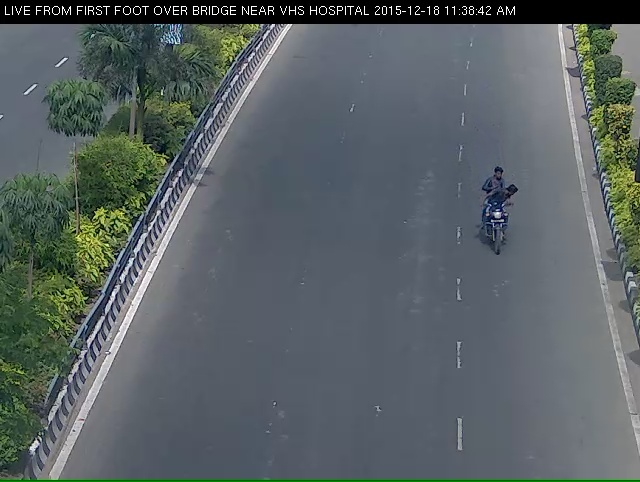Person: (480, 182, 526, 275)
